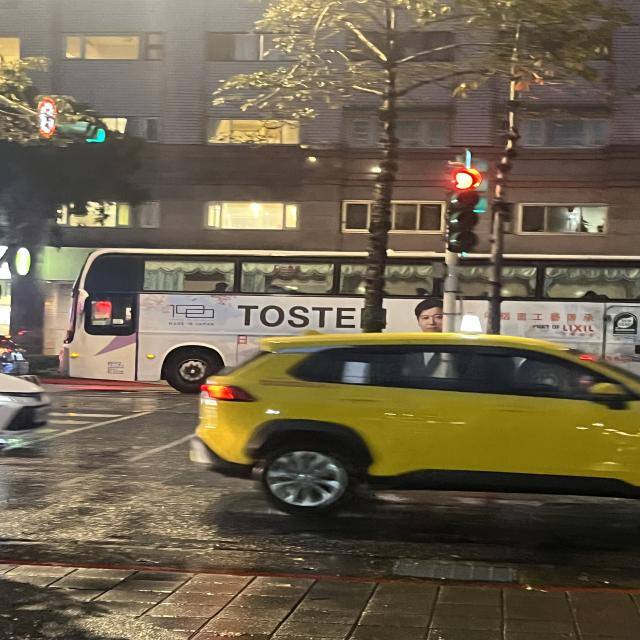green light: (51, 123, 115, 144)
red light: (442, 168, 480, 256)
